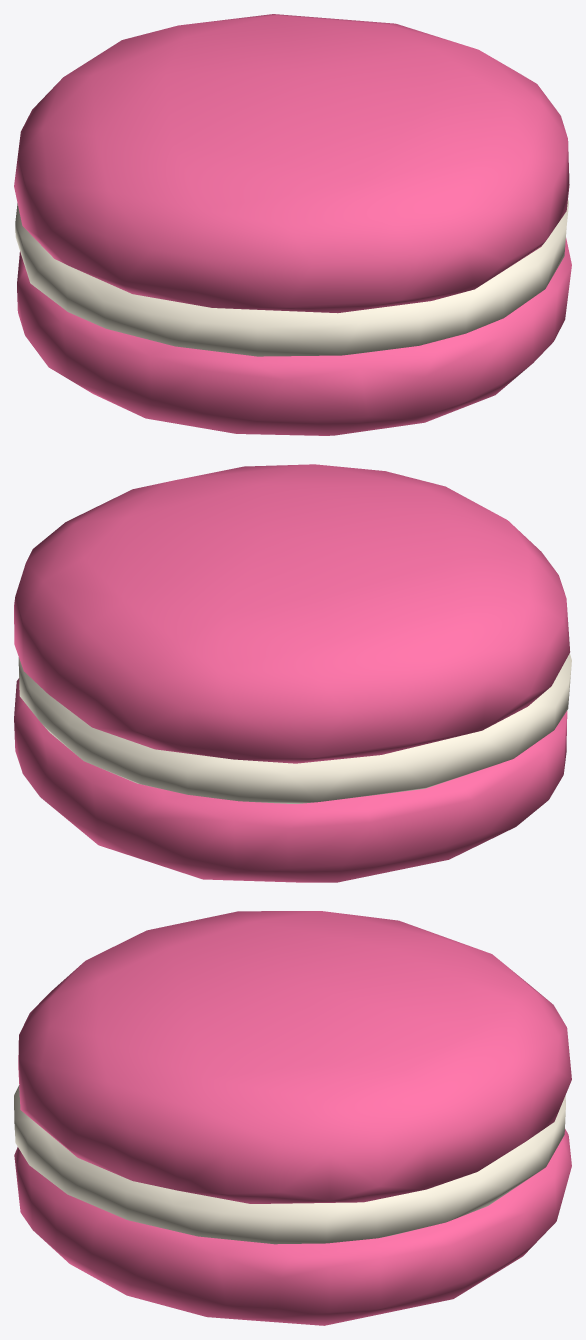
File: macaron_LOD0.fbx
3 renders of one model, top to bottom at view 1: azimuth 30°, elevation 25°; view 2: azimuth 150°, elevation 25°; view 3: azimuth 270°, elevation 25°, orthographic. The views are drawn at different scales.
Parts seen in each view (by area): view 1: Cube_008; view 2: Cube_008; view 3: Cube_008.
Boxes of the visible parts, x1,y1,x2,y2 form: Cube_008: (14,14,571,435); Cube_008: (14,464,571,882); Cube_008: (14,911,571,1325).
Bounding box in the file's own units: 21.29 × 11.63 × 21.3.
